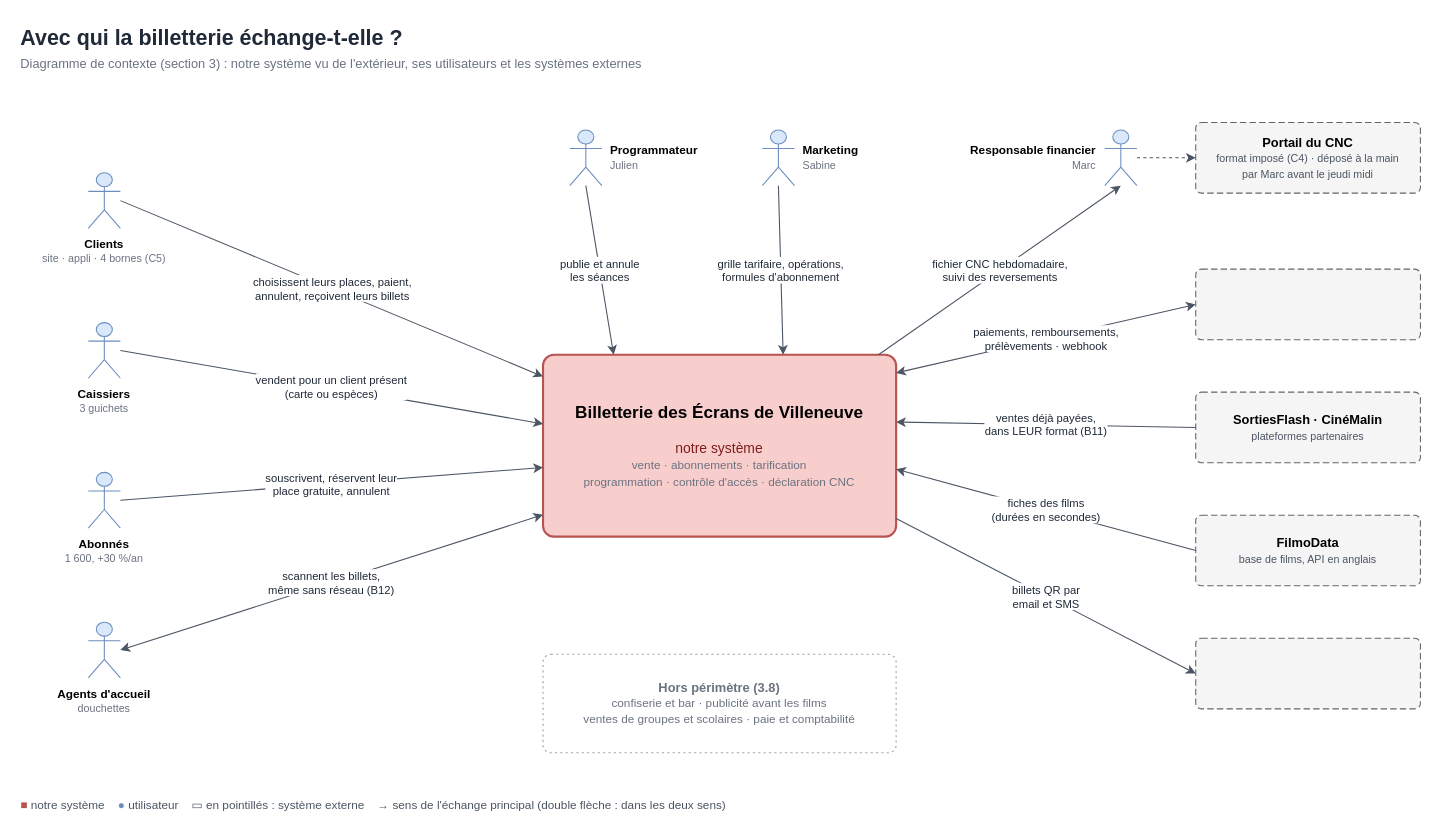
Image size: 1439x835. Some labels were removed from this diagram. Here are the shapes that lost their labels. From the top down, the centre of each, then its label:
point (1307, 304): PayVia paiement, contrat 4 ans (C3)
point (1307, 673): Service d'envoi emails et SMS (marché)
